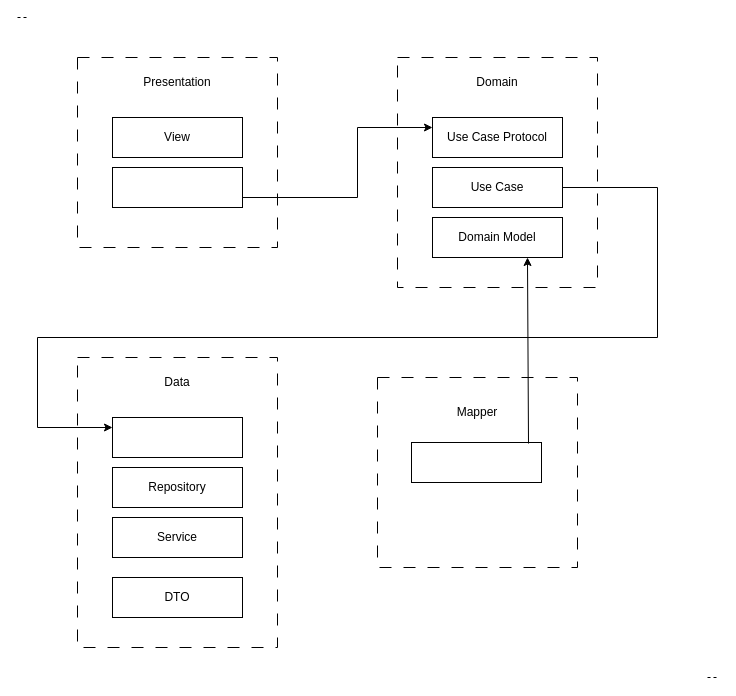
Image size: 736x696. Some labels were removed from this diagram. The centre of each missing label's shape, as x and y in pixels:
"DTO To Domain Mapper" goes at [476,462].
"Repository Protocol" goes at [177,437].
"ViewModel" goes at [177,187].
